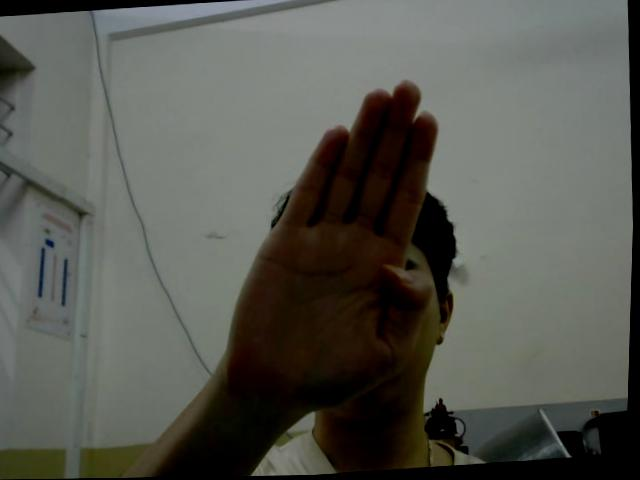B: (211, 76, 453, 418)
